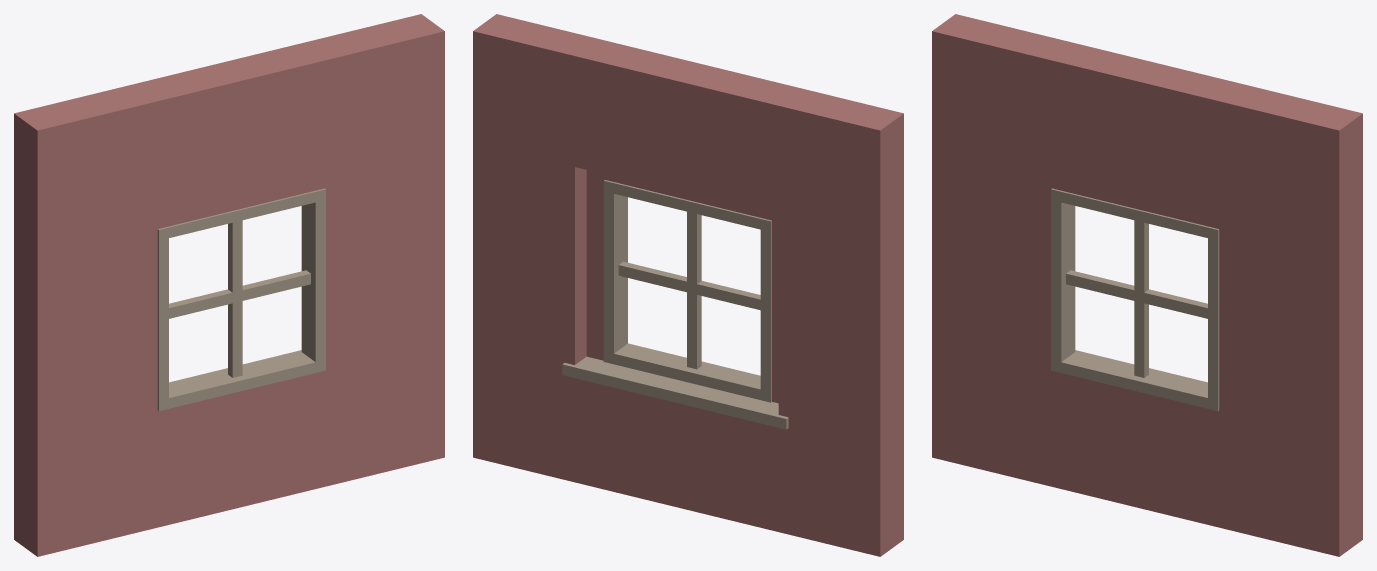
Rendered from wall_window.fbx.
3 renders of one model, left to right at view 1: azimuth 30°, elevation 25°; view 2: azimuth 150°, elevation 25°; view 3: azimuth 330°, elevation 25°, orthographic.
Visible parts, largest first — view 1: Cube; view 2: Cube; view 3: Cube.
Part boxes in pixels (bbox=[...]): Cube: bbox=[14, 14, 444, 556]; Cube: bbox=[473, 14, 903, 556]; Cube: bbox=[932, 14, 1362, 556].
Bounding box in the file's own units: 400 × 400 × 46.
